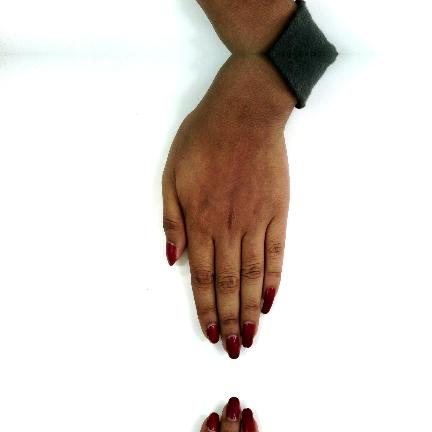Nail: (261, 288, 275, 314), (242, 322, 255, 348), (226, 336, 240, 359), (226, 397, 240, 420), (242, 408, 255, 432), (166, 241, 177, 266), (206, 324, 219, 344), (206, 412, 219, 432)
